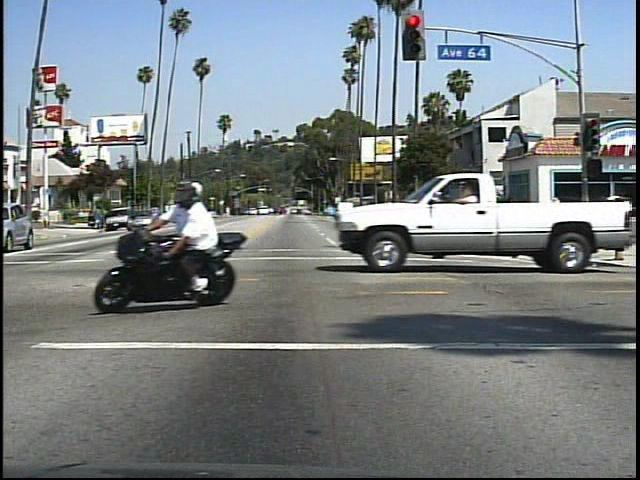person: (159, 177, 236, 303), (543, 192, 571, 246)
